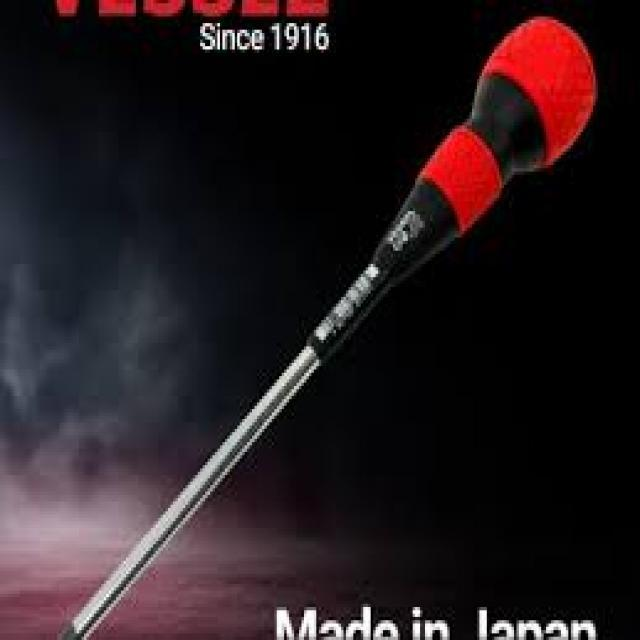screwdriver: (52, 13, 603, 640)
